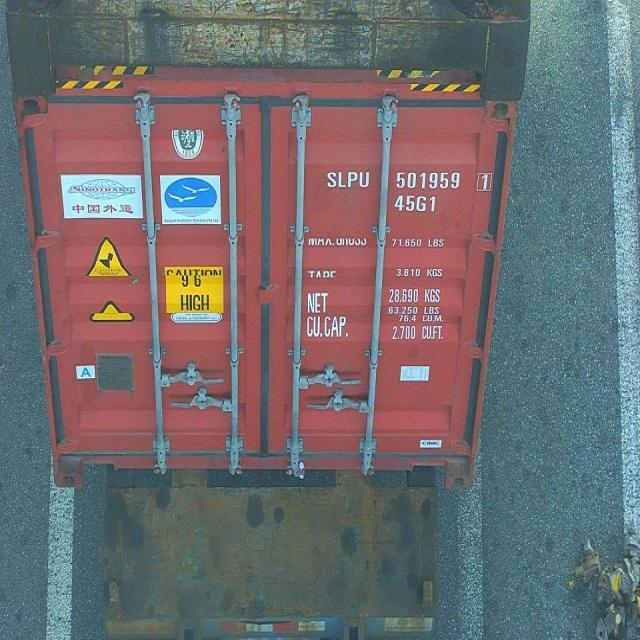ISO: (396, 194, 436, 213)
container_number: (333, 171, 489, 191)
